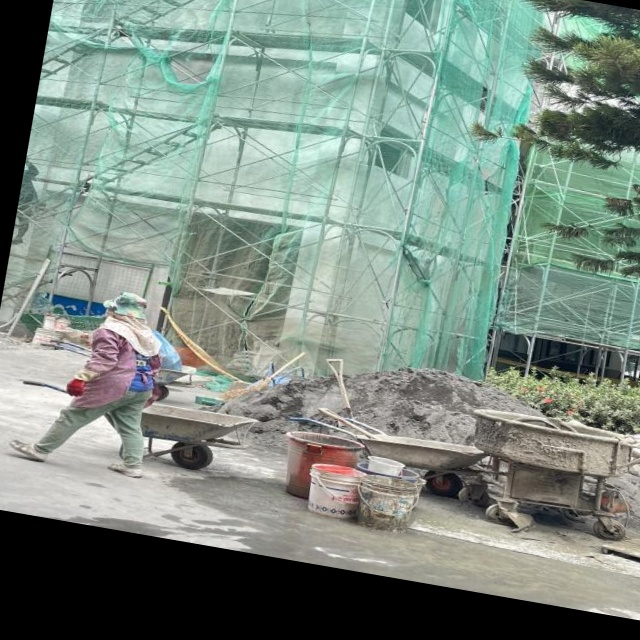Sin_Casco_Mascarrilla: (102, 289, 152, 326)
Sin_Chaleco: (87, 320, 170, 400)
